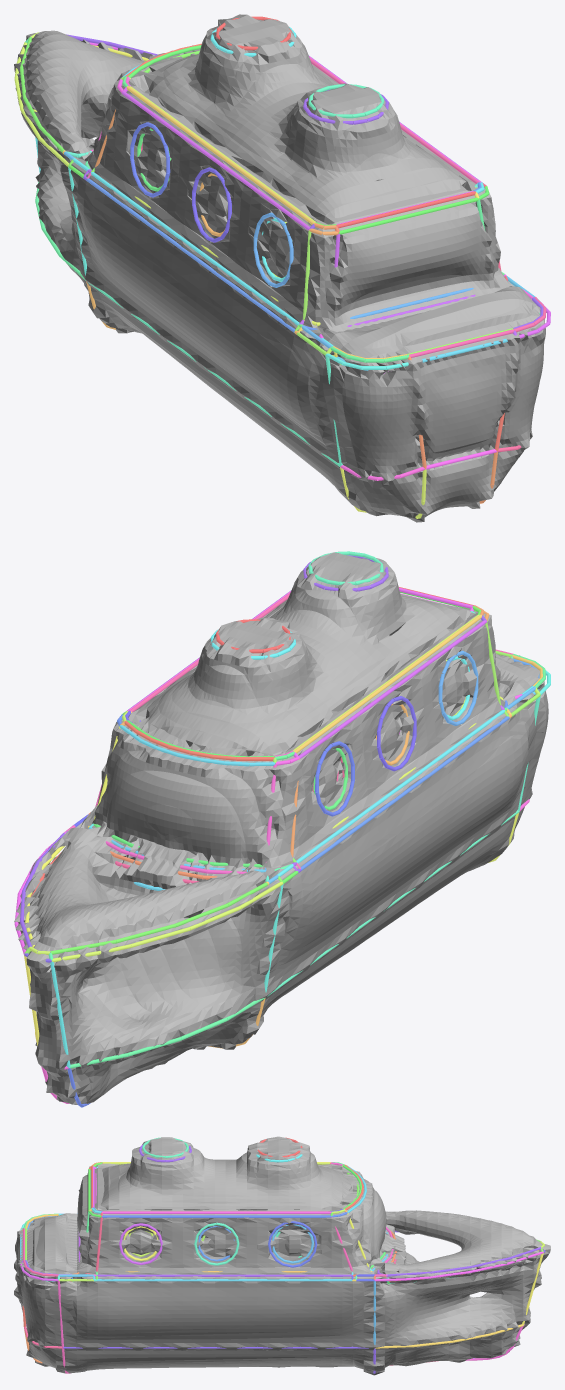
File: onshape_boat.gltf
3 renders of one model, top to bottom at view 1: azimuth 30°, elevation 25°; view 2: azimuth 150°, elevation 25°; view 3: azimuth 270°, elevation 25°, orthographic. The views are drawn at different scales.
Size of the model in its own units: 0.2691 by 0.4027 by 0.9027.
